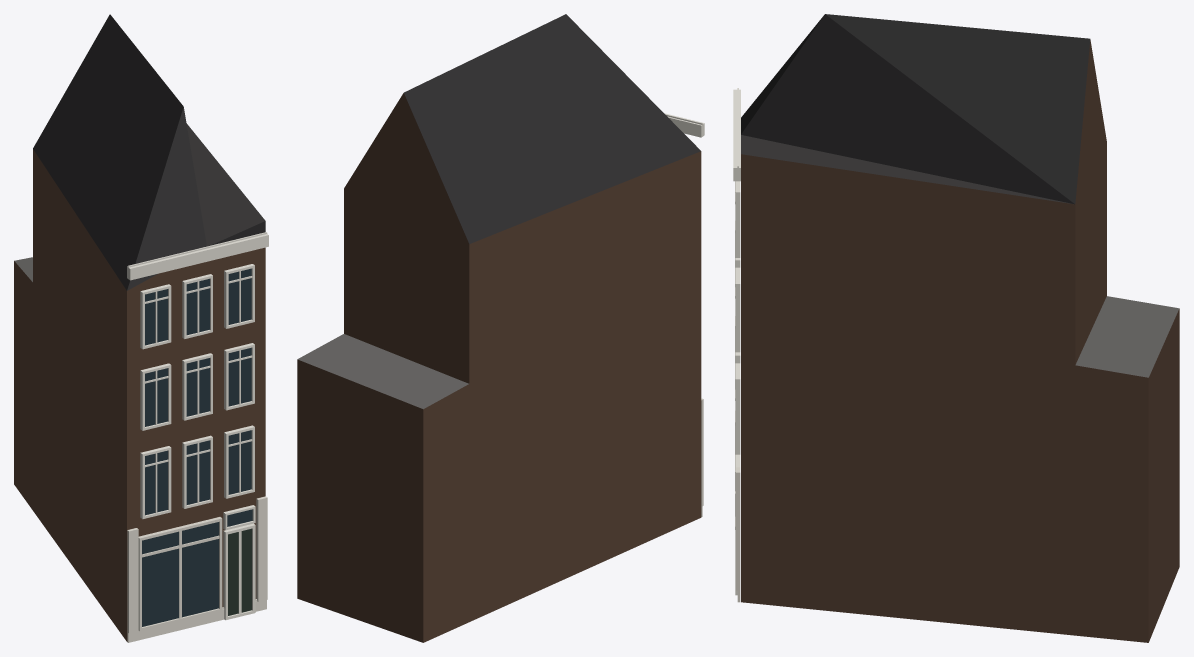
3 views of the same model, side by side, from view 1: azimuth 30°, elevation 25°; view 2: azimuth 150°, elevation 25°; view 3: azimuth 270°, elevation 25° (orthographic). The views are drawn at different scales.
Parts seen in each view (by area): view 1: spec-0363100012182379; view 2: spec-0363100012182379; view 3: spec-0363100012182379.
Part boxes in pixels (x1,y1,x2,y2): spec-0363100012182379: (14, 14, 268, 642); spec-0363100012182379: (297, 14, 704, 642); spec-0363100012182379: (733, 14, 1179, 642).
Size of the model in its own units: 6.65 by 14.66 by 10.53.
